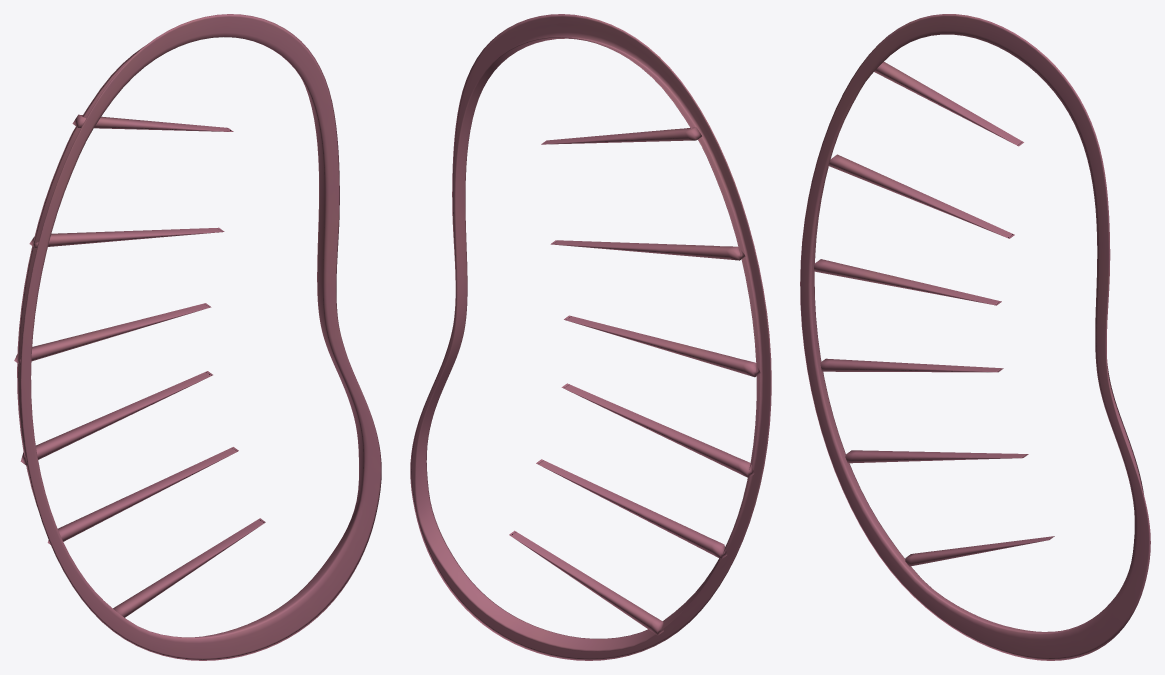
3 renders of one model, left to right at view 1: azimuth 30°, elevation 25°; view 2: azimuth 150°, elevation 25°; view 3: azimuth 330°, elevation 25°, orthographic. The views are drawn at different scales.
Parts seen in each view (by area): view 1: LOD 0_16192670299155889494_a1e5460f9667e624384844bb77a670e0; view 2: LOD 0_16192670299155889494_a1e5460f9667e624384844bb77a670e0; view 3: LOD 0_16192670299155889494_a1e5460f9667e624384844bb77a670e0.
Part boxes in pixels (x1=…): LOD 0_16192670299155889494_a1e5460f9667e624384844bb77a670e0: x1=14, y1=14, x2=381, y2=660; LOD 0_16192670299155889494_a1e5460f9667e624384844bb77a670e0: x1=410, y1=14, x2=771, y2=660; LOD 0_16192670299155889494_a1e5460f9667e624384844bb77a670e0: x1=800, y1=14, x2=1150, y2=660.
Size of the model in its own units: 4.1 by 7.02 by 0.234.
